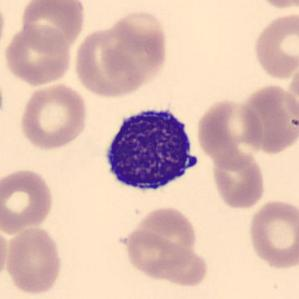Lymphocyte: (97, 98, 207, 198)
RBC: (76, 8, 171, 98), (194, 96, 265, 168), (17, 82, 90, 152), (121, 228, 206, 287), (122, 205, 200, 265), (2, 22, 74, 87), (236, 82, 298, 156), (3, 224, 65, 296), (0, 166, 56, 236), (246, 197, 298, 270), (208, 149, 268, 211), (18, 0, 86, 53), (251, 10, 298, 81), (0, 223, 11, 283), (248, 0, 299, 10), (0, 0, 7, 59)
